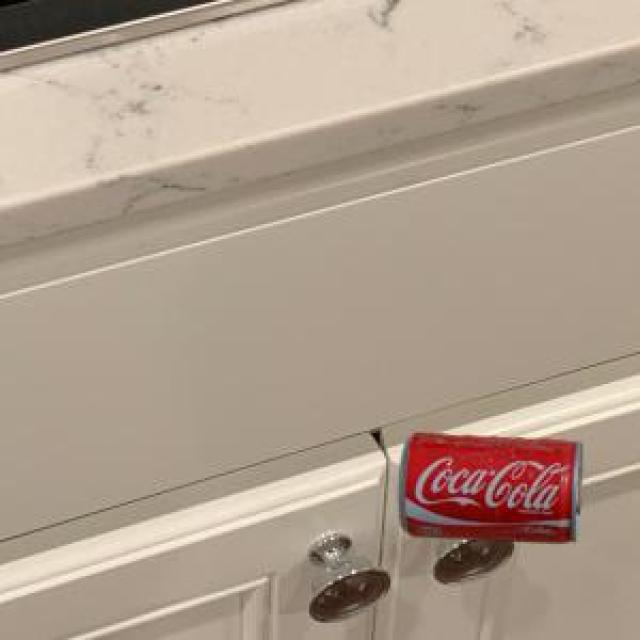logam: (396, 430, 579, 541)
